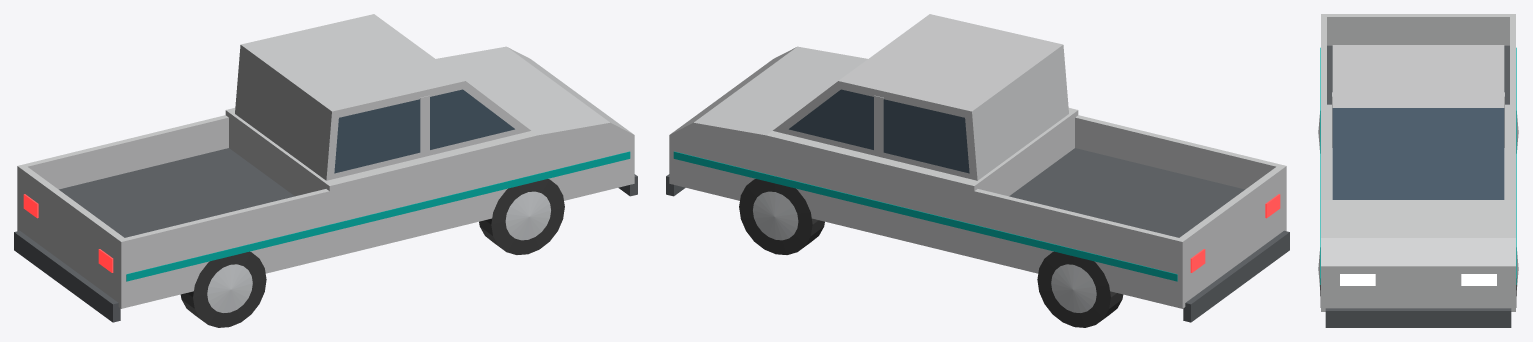
The model's file is nexfleet-pickup.glb.
The picture shows the model from 3 angles, left to right: view 1: azimuth 30°, elevation 25°; view 2: azimuth 150°, elevation 25°; view 3: azimuth 270°, elevation 25°; orthographic projection. The views are drawn at different scales.
Visible parts, largest first — view 1: NexFleet pickup; view 2: NexFleet pickup; view 3: NexFleet pickup.
Part boxes in pixels (<box>): NexFleet pickup: <box>14,14,637,327</box>; NexFleet pickup: <box>666,14,1289,327</box>; NexFleet pickup: <box>1318,14,1518,327</box>.
Bounding box in the file's own units: 5.42 × 1.82 × 1.91.
